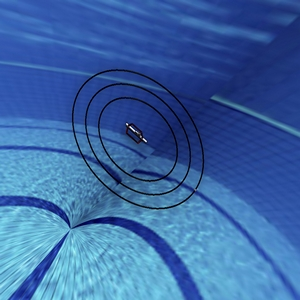circle: (52, 52, 220, 213)
submarine: (120, 115, 153, 151)
